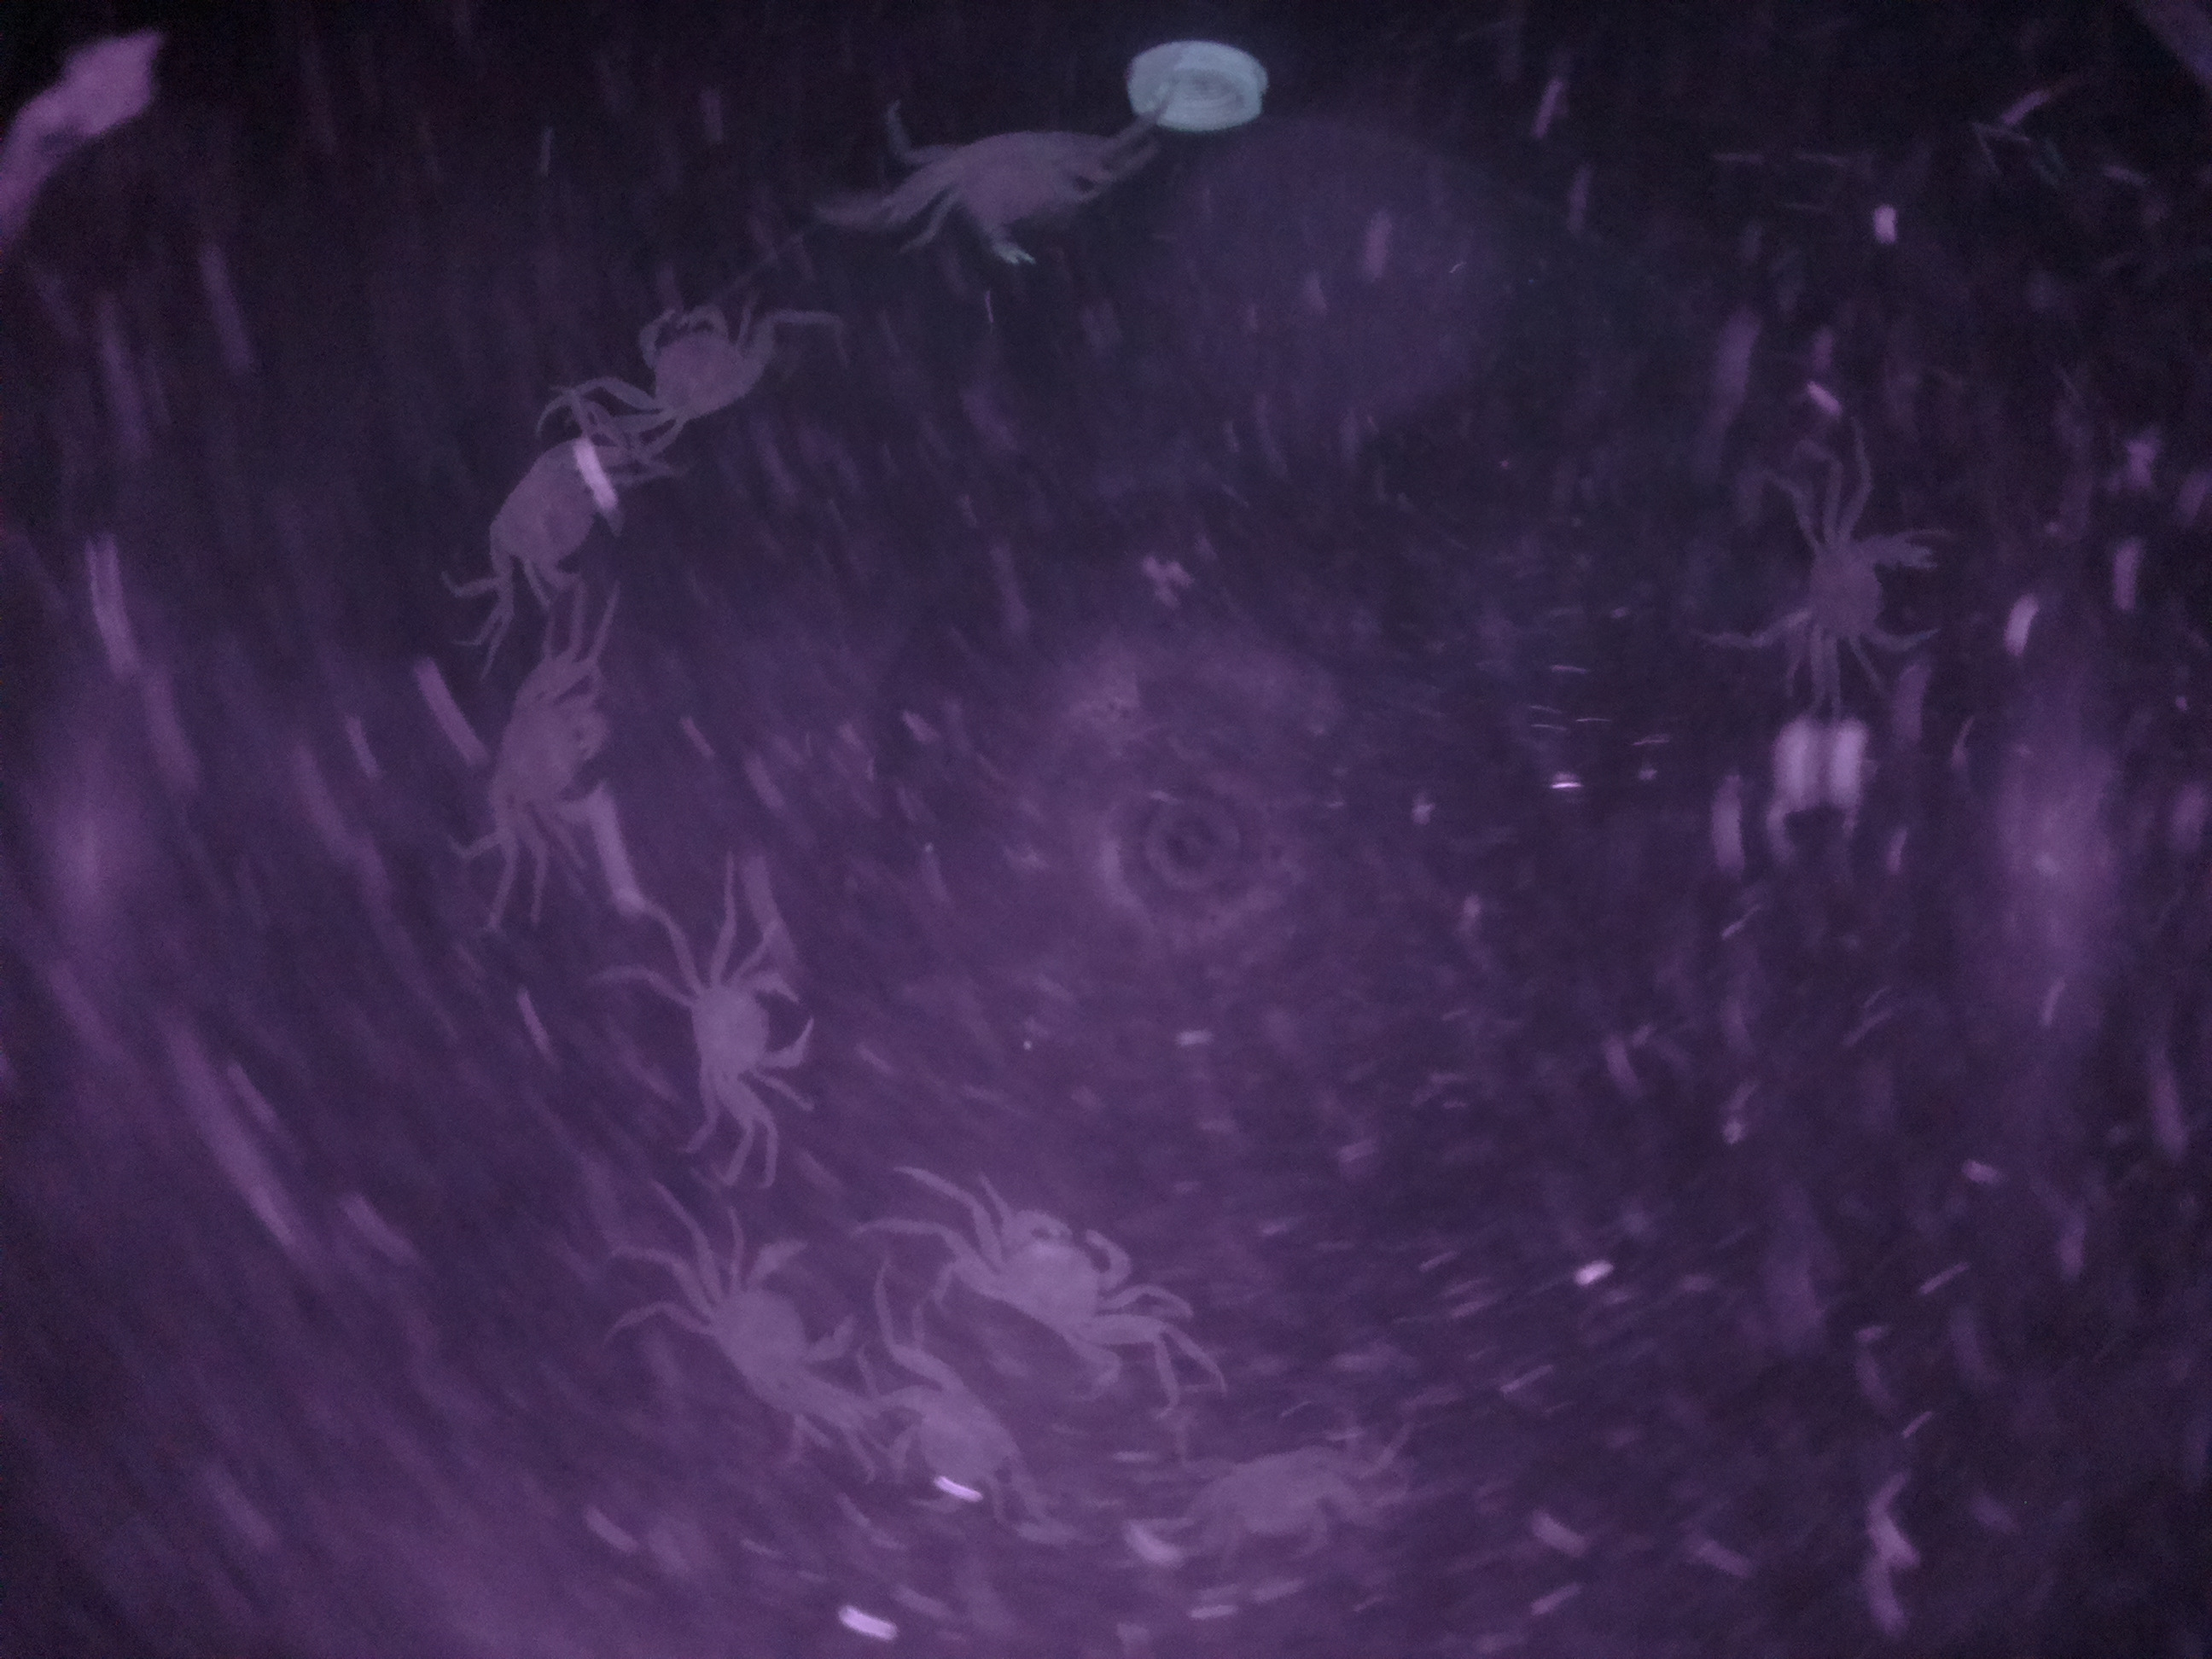Crab: (655, 1208, 860, 1464), (1764, 469, 1947, 676), (944, 1176, 1144, 1364), (655, 931, 850, 1115)
